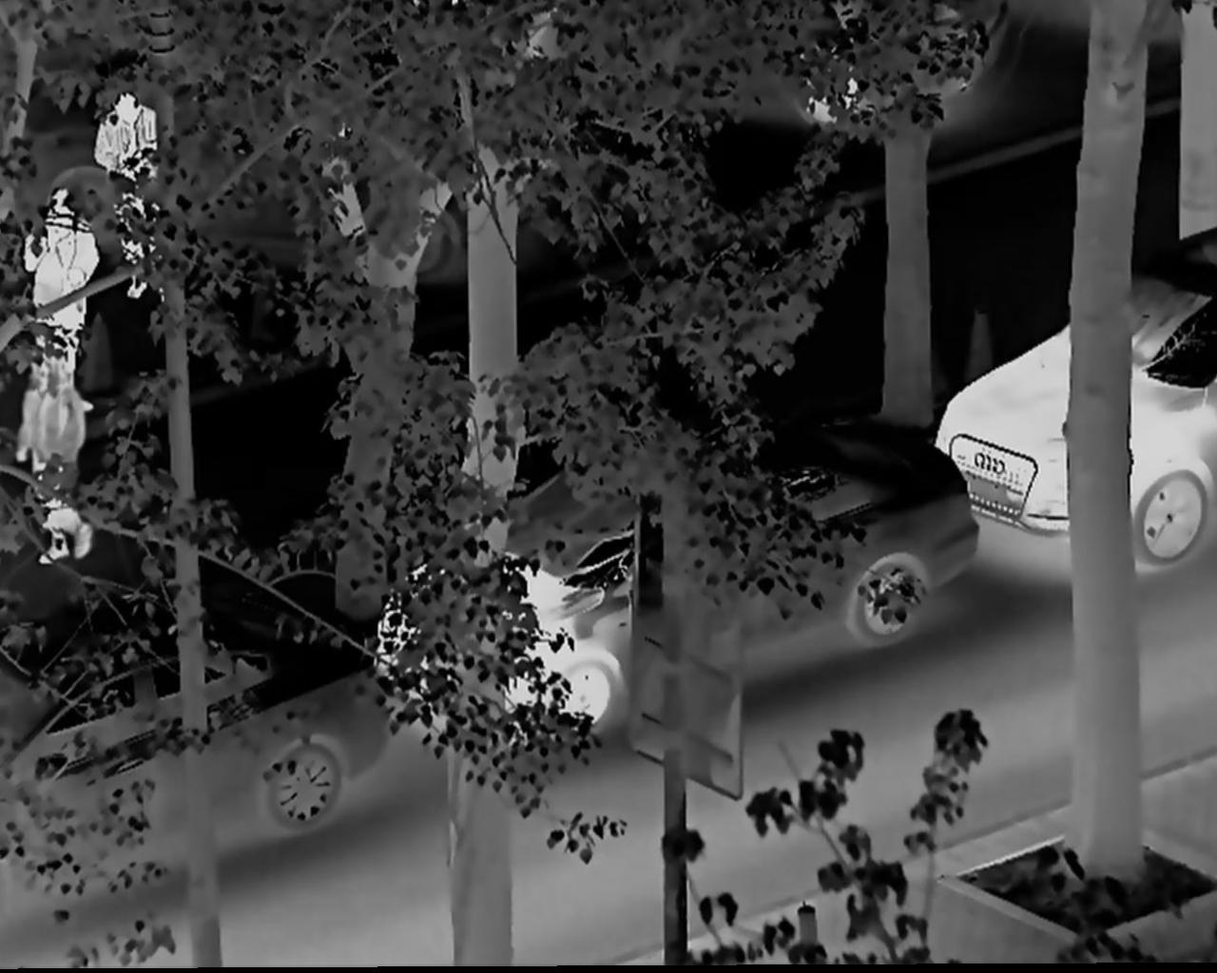person: (93, 74, 174, 308), (9, 357, 93, 568), (28, 188, 99, 366)
